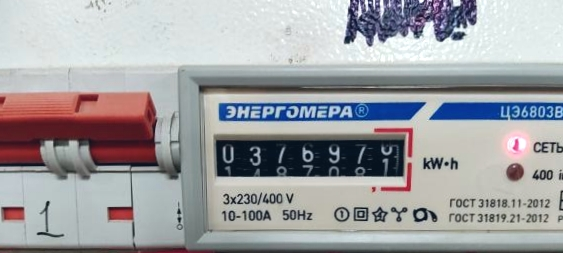0: (220, 141, 234, 163)
1: (378, 155, 390, 176)
3: (247, 143, 262, 166)
6: (299, 139, 314, 162)
7: (272, 140, 287, 163), (353, 141, 367, 164)
9: (325, 140, 340, 163)
screen: (204, 121, 416, 197)
